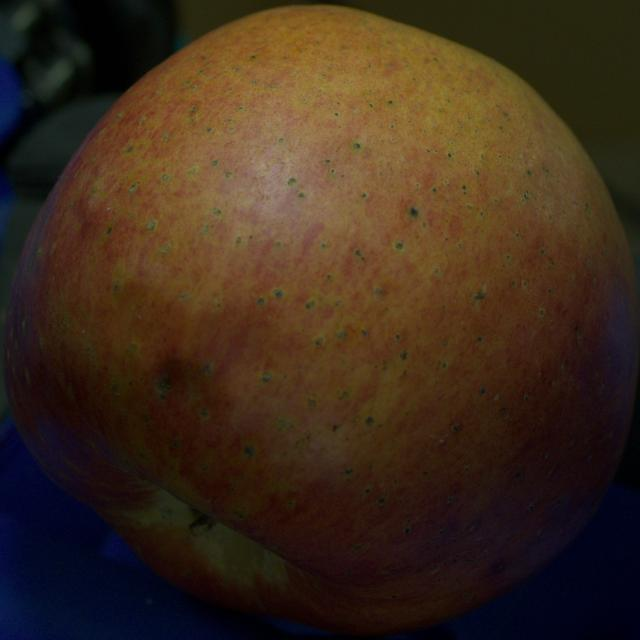apple: (2, 6, 639, 634)
pest: (156, 376, 171, 399)
